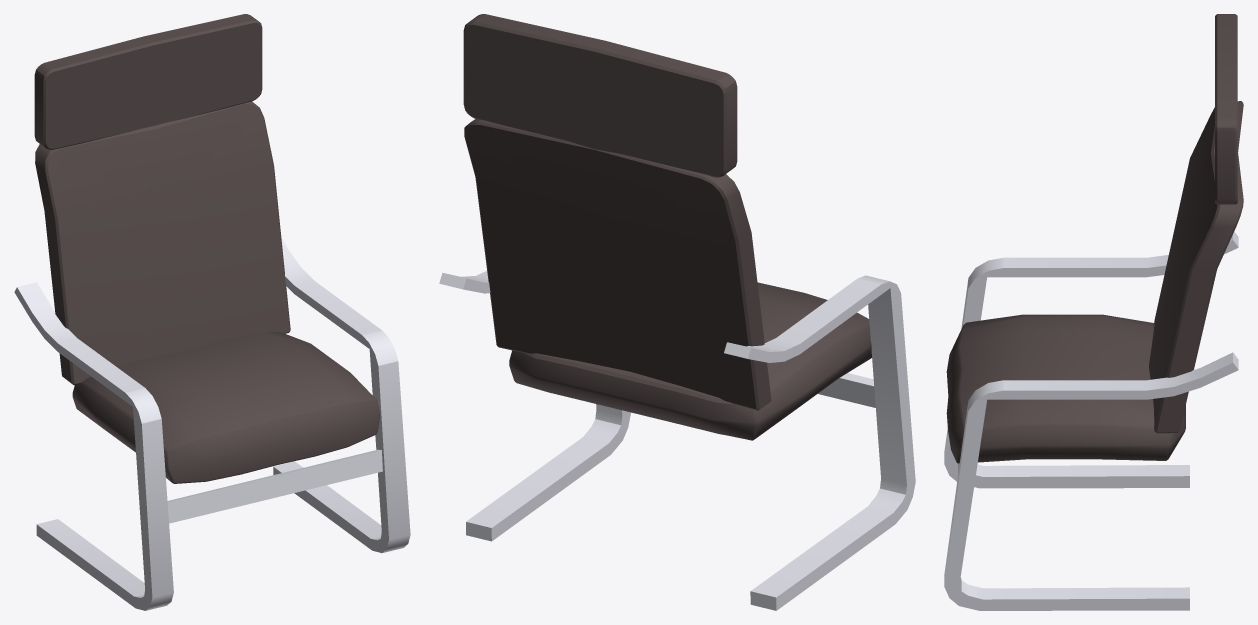
The model's file is Prop_Chair_01.fbx.
3 renders of one model, left to right at view 1: azimuth 30°, elevation 25°; view 2: azimuth 150°, elevation 25°; view 3: azimuth 270°, elevation 25°, orthographic. The views are drawn at different scales.
Visible parts, largest first — view 1: Prop_Chair_01; view 2: Prop_Chair_01; view 3: Prop_Chair_01.
Boxes of the visible parts, x1,y1,x2,y2 form: Prop_Chair_01: (14,14,410,610); Prop_Chair_01: (439,14,915,610); Prop_Chair_01: (944,14,1243,610).
Bounding box in the file's own units: 80.56 × 135 × 76.29.
